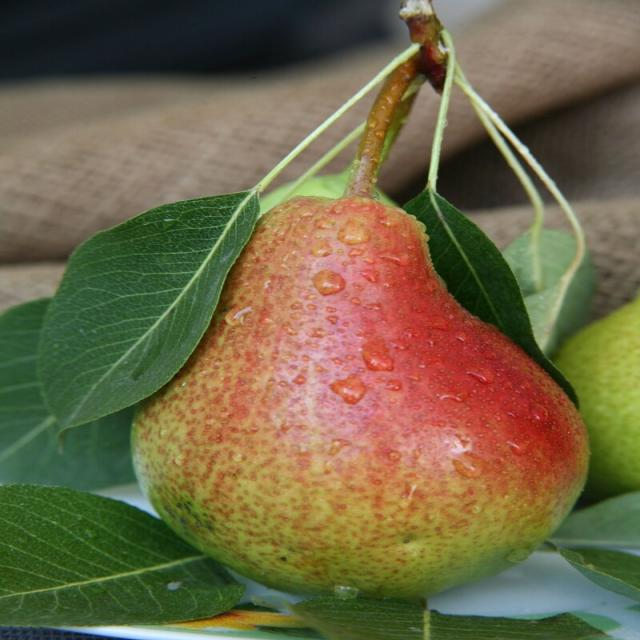pear: (128, 193, 593, 600), (551, 292, 638, 502)
